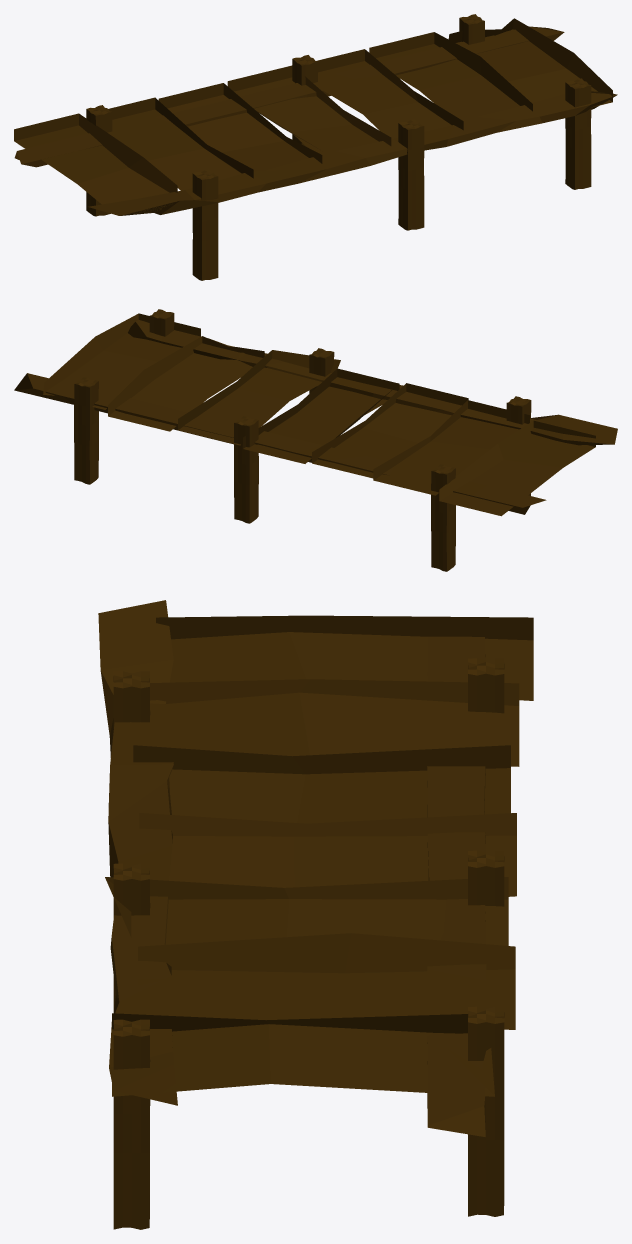
File: Pier2.fbx
3 views of the same model, one above another, from view 1: azimuth 30°, elevation 25°; view 2: azimuth 150°, elevation 25°; view 3: azimuth 270°, elevation 25° (orthographic). The views are drawn at different scales.
Parts seen in each view (by area): view 1: Cube, Cube.001, Cube.002; view 2: Cube, Cube.001, Cube.002; view 3: Cube, Cube.001, Cube.002.
Boxes of the visible parts, x1=… form: Cube: x1=14, y1=18, x2=612, y2=204; Cube.001: x1=14, y1=26, x2=617, y2=215; Cube.002: x1=86, y1=14, x2=591, y2=280; Cube: x1=43, y1=313, x2=595, y2=516; Cube.001: x1=14, y1=320, x2=617, y2=514; Cube.002: x1=74, y1=309, x2=531, y2=571; Cube: x1=105, y1=615, x2=533, y2=1096; Cube.001: x1=98, y1=600, x2=486, y2=1136; Cube.002: x1=113, y1=658, x2=504, y2=1229.
Bounding box in the file's own units: 420 × 75.23 × 151.
